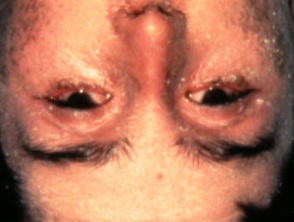SJS-TEN: (190, 59, 278, 95), (39, 74, 110, 99)
